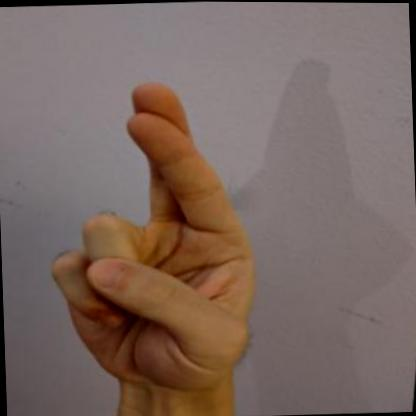R: (26, 63, 294, 402)
